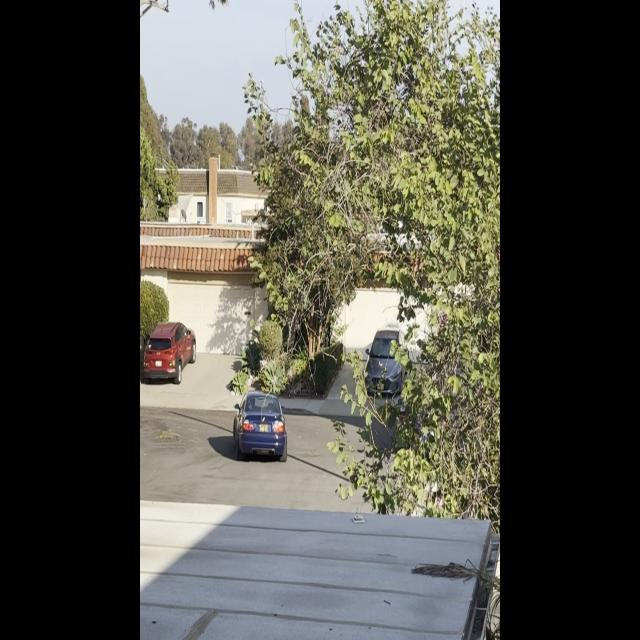Carbeetle: (229, 387, 288, 466)
Civilian: (140, 318, 199, 383), (363, 320, 409, 403)
